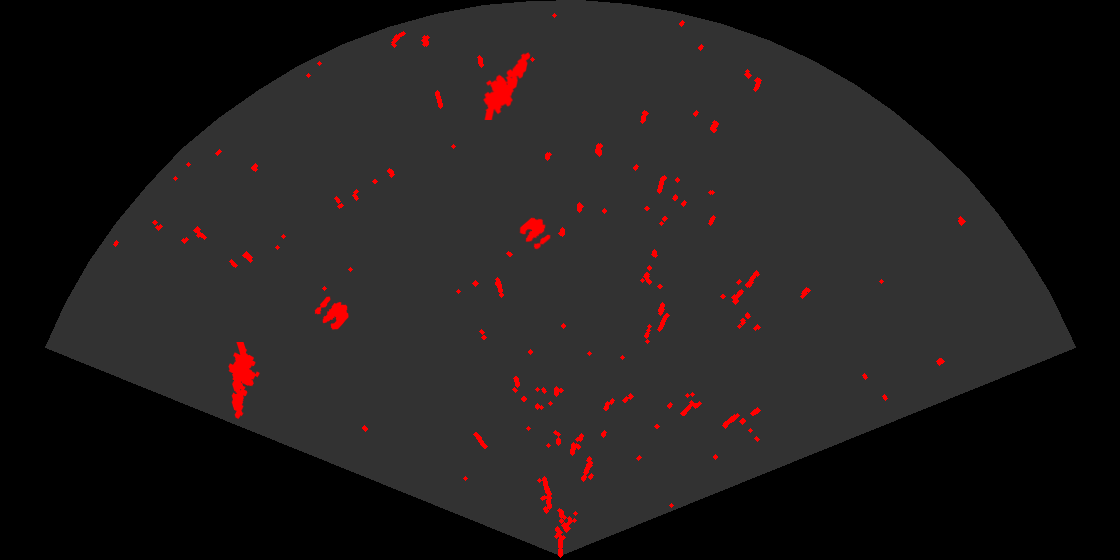ball: (313, 295, 350, 331), (518, 216, 552, 251)
frogman: (482, 51, 532, 120), (227, 342, 261, 420)
